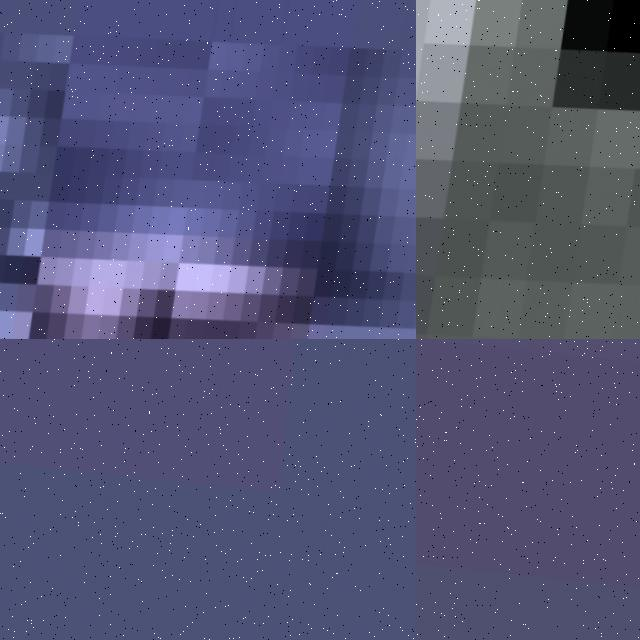0: (0, 0, 416, 339)
drone: (416, 0, 640, 339)
